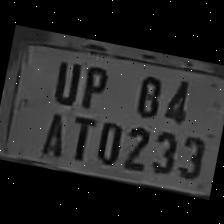0: (90, 113, 128, 165)
2: (118, 118, 152, 172)
3: (144, 122, 182, 176), (172, 128, 209, 182)
4: (158, 70, 196, 124)
8: (128, 68, 164, 119)
A: (34, 104, 72, 160)
P: (74, 56, 112, 110)
T: (62, 108, 98, 162)
U: (46, 51, 86, 108)
